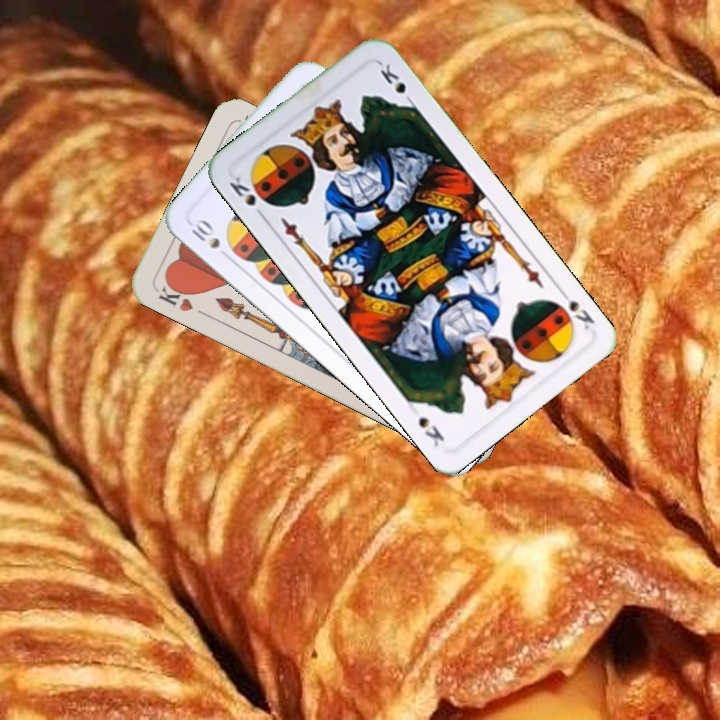HK: (154, 277, 196, 315)
S10: (186, 214, 234, 263)
SK: (548, 286, 598, 333), (225, 172, 269, 222)
